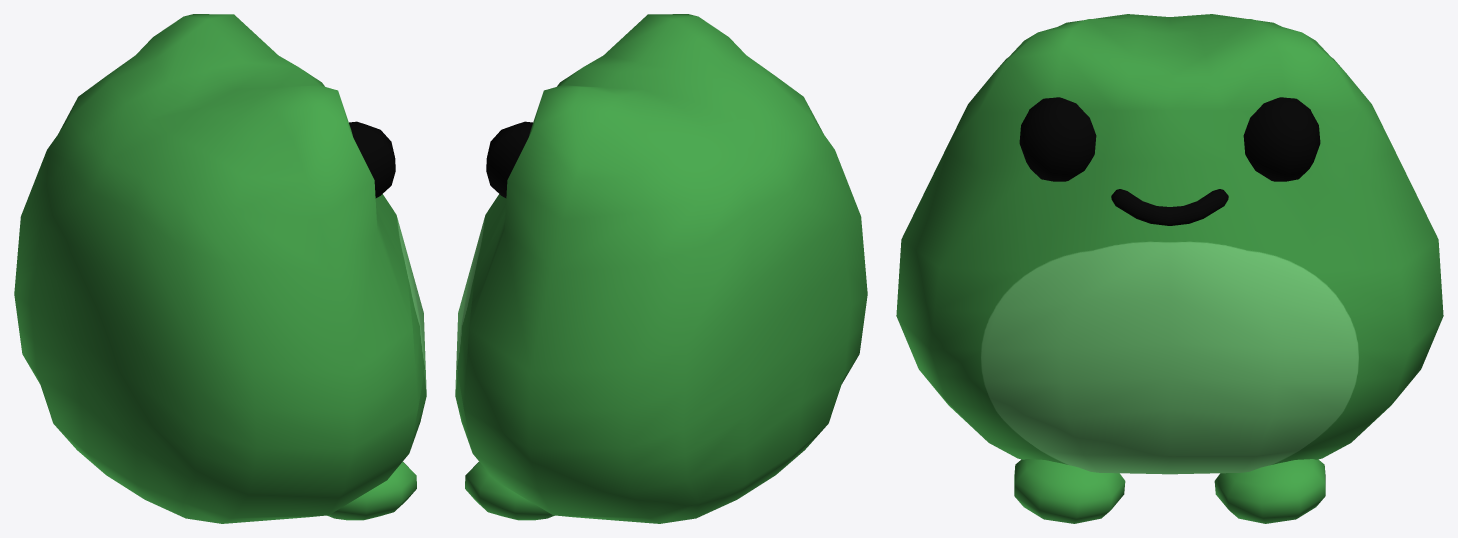
File: rana.fbx
3 views of the same model, side by side, from view 1: azimuth 30°, elevation 25°; view 2: azimuth 150°, elevation 25°; view 3: azimuth 270°, elevation 25° (orthographic). The views are drawn at different scales.
Parts seen in each view (by area): view 1: Rana; view 2: Rana; view 3: Rana.
Boxes of the visible parts, bbox=[...] form: Rana: bbox=[14, 14, 426, 523]; Rana: bbox=[455, 14, 867, 523]; Rana: bbox=[896, 14, 1443, 523].
Bounding box in the file's own units: 229 × 316 × 343.
